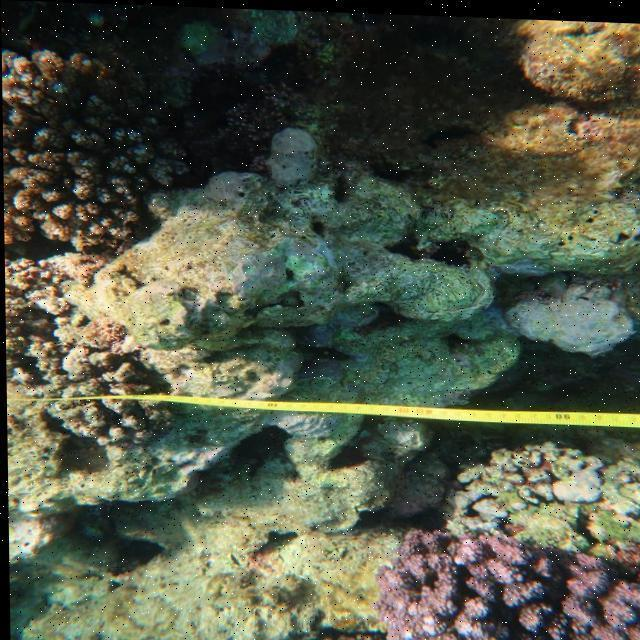Healthy Coral: (317, 523, 640, 640), (2, 41, 172, 255)
